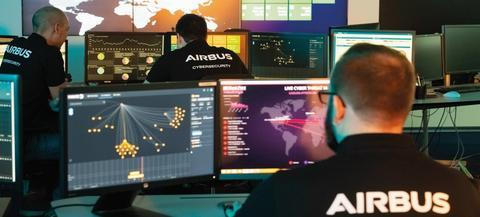monitor: (59, 80, 218, 194), (216, 75, 364, 180), (84, 30, 166, 96), (165, 31, 250, 90), (330, 29, 416, 83), (251, 33, 329, 87), (374, 32, 446, 81), (442, 25, 480, 74)
